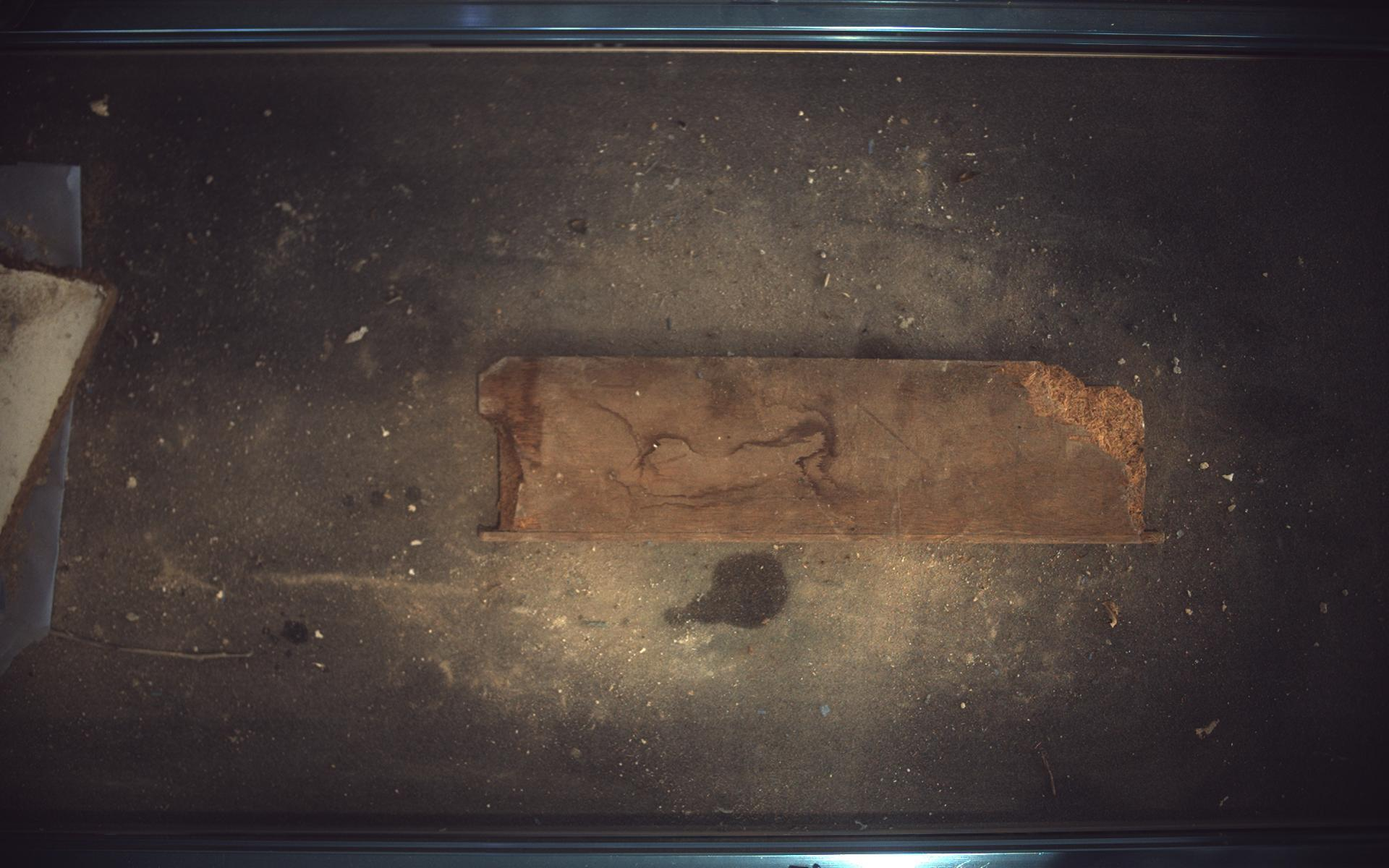wood: (479, 356, 1163, 544), (1, 260, 116, 542)
